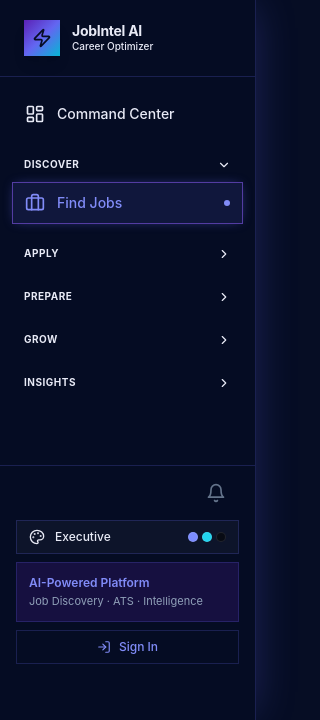
Test: Navbar › expands and collapses a group when its header is clicked
Expected: the link "Campaign" is not shown
Step 1. Click the button with aria-label "Expand Apply section" → click(128, 254), box x1=12 y1=240 x2=243 y2=267
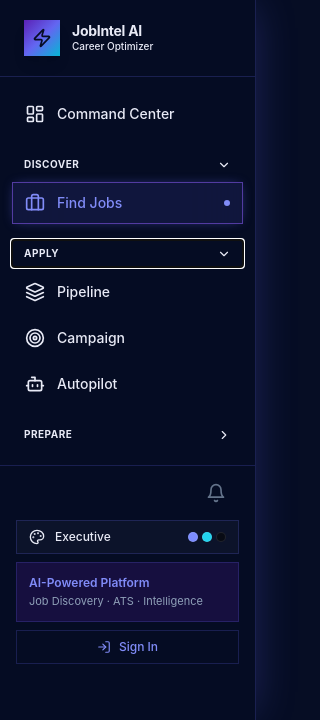
Expected: the button named "Expand Apply section" is expanded
Expected: the link "Campaign" is shown, x1=25 y1=328 x2=125 y2=348
Step 2. Click the button named "Expand Apply section" → click(128, 254), box x1=12 y1=240 x2=243 y2=267
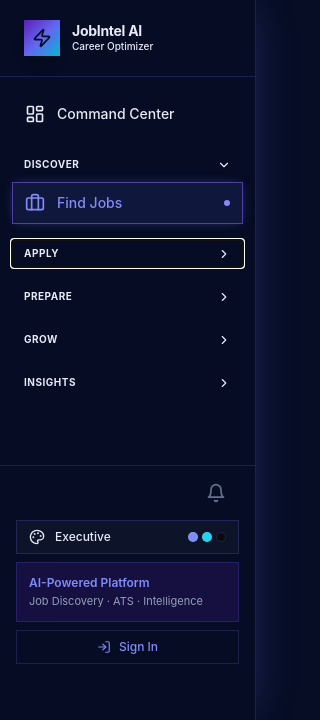
Expected: the button with aria-label "Expand Apply section" is collapsed, x1=12 y1=240 x2=243 y2=267
Expected: the link "Campaign" is gone
